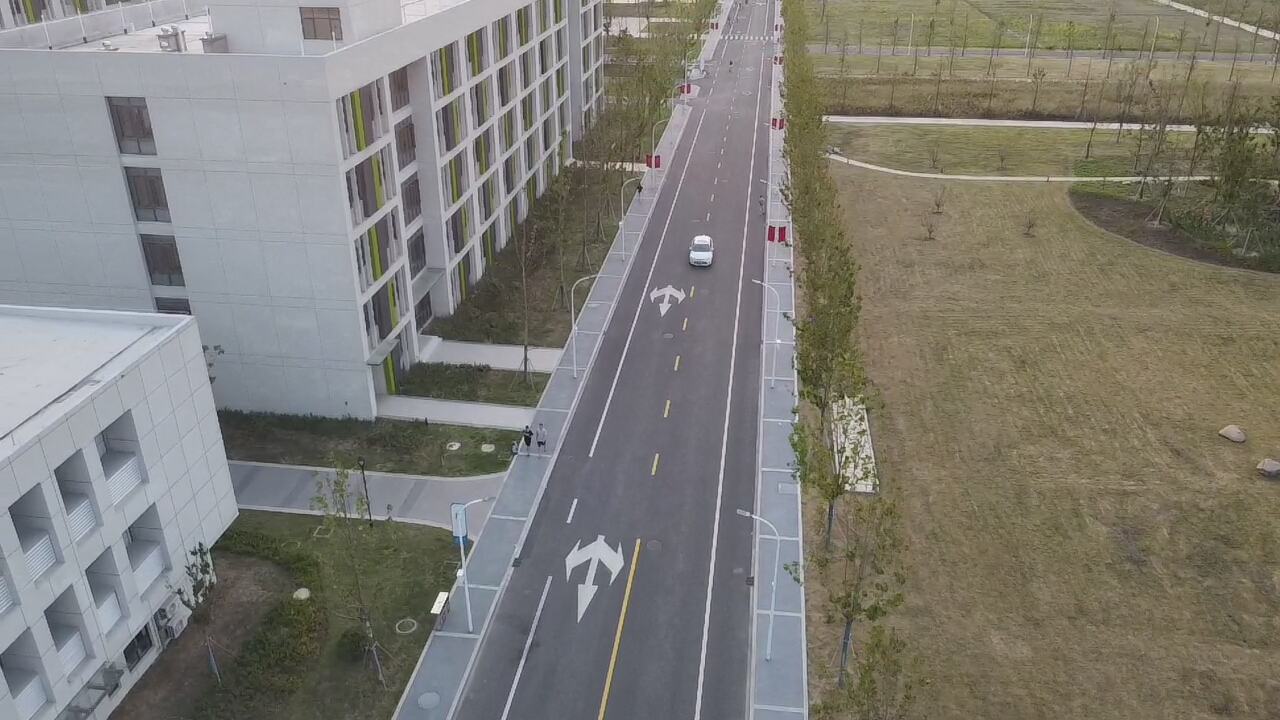car: (683, 227, 717, 271)
person: (519, 419, 548, 448)
